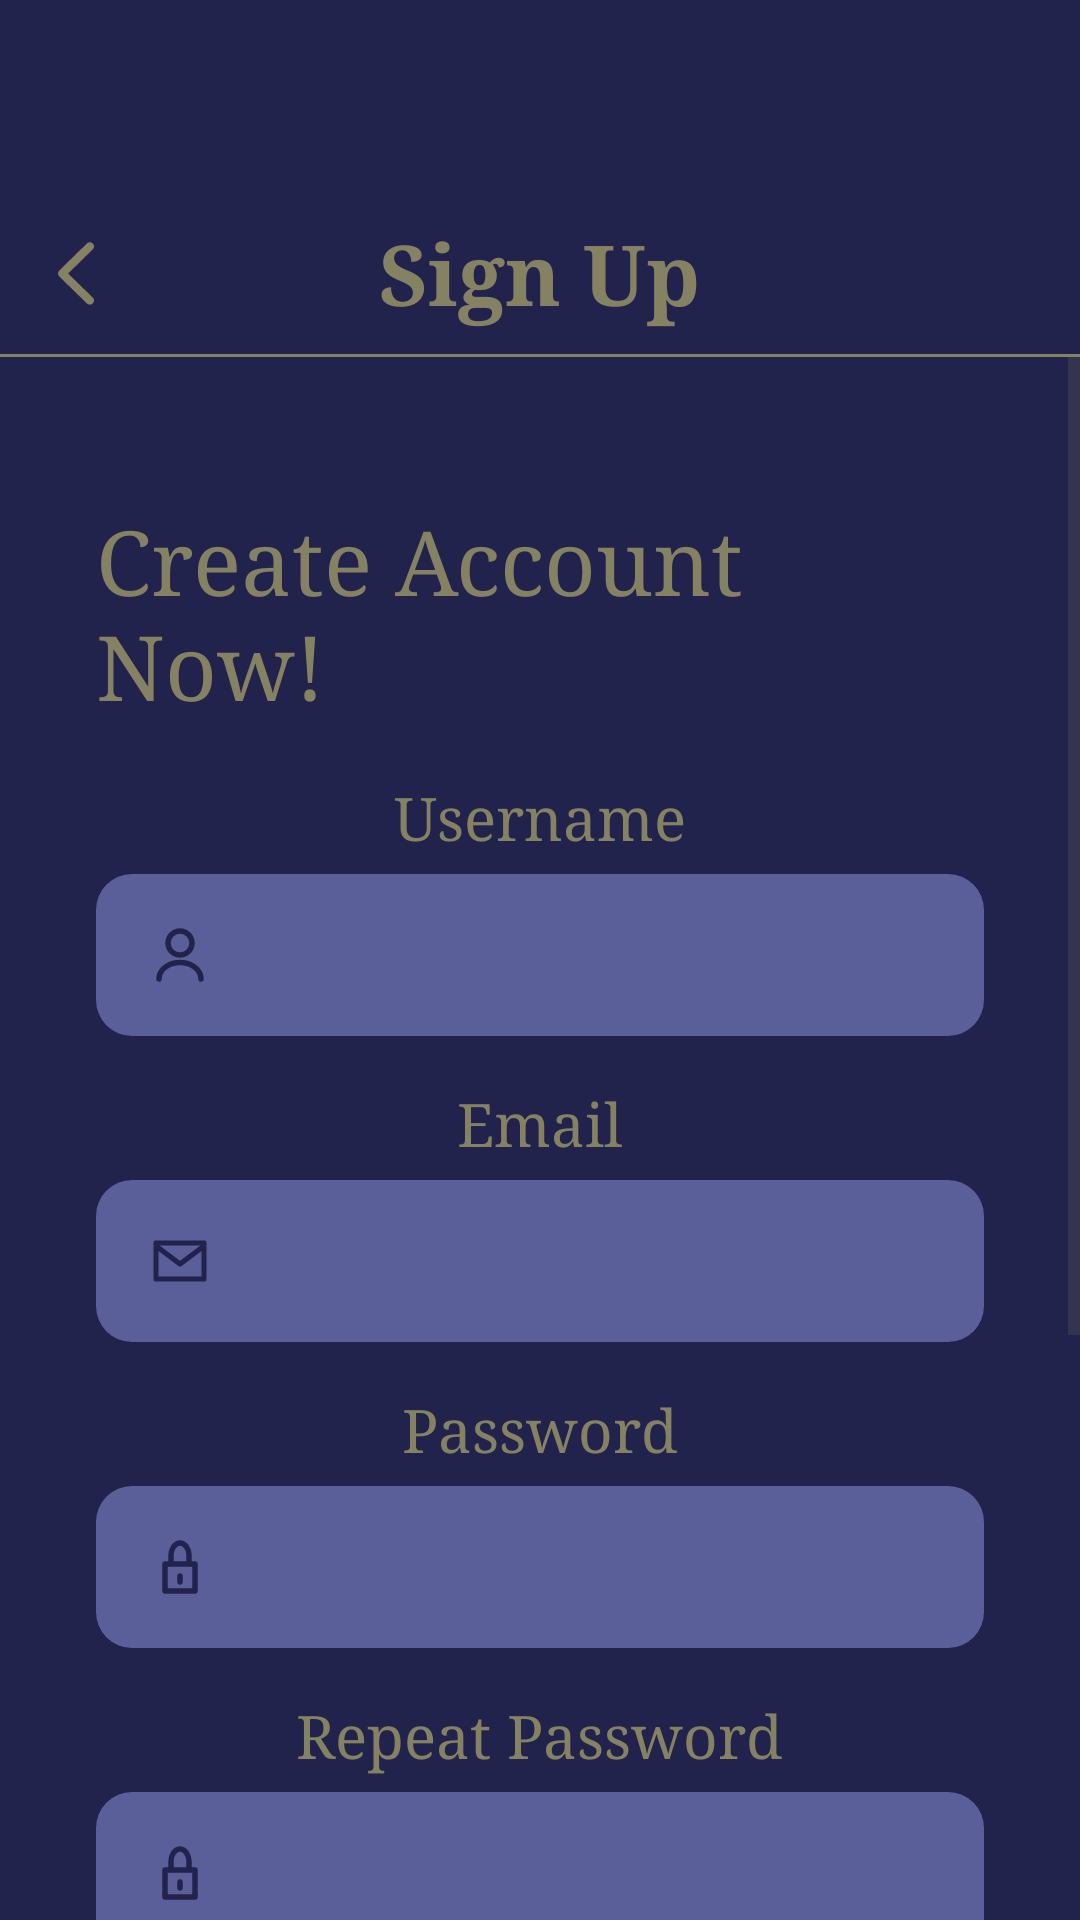

Icon bounding boxes for this 1080w x 1920h phone screenshot, format {"x1": x1, "y1": y1, "x2": x2, "y2": y2}:
Back: {"x1": 58, "y1": 242, "x2": 94, "y2": 305}
